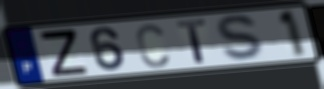1: (277, 9, 309, 59)
6: (89, 26, 127, 73)
C: (134, 22, 172, 69)
S: (215, 13, 270, 63)
T: (174, 17, 210, 65)
Z: (36, 28, 91, 78)
